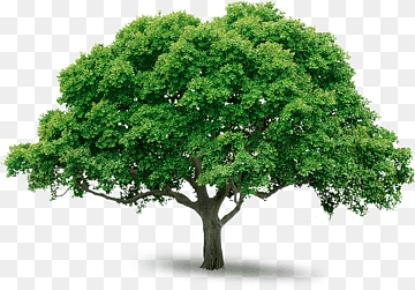tree: (4, 0, 415, 275)
